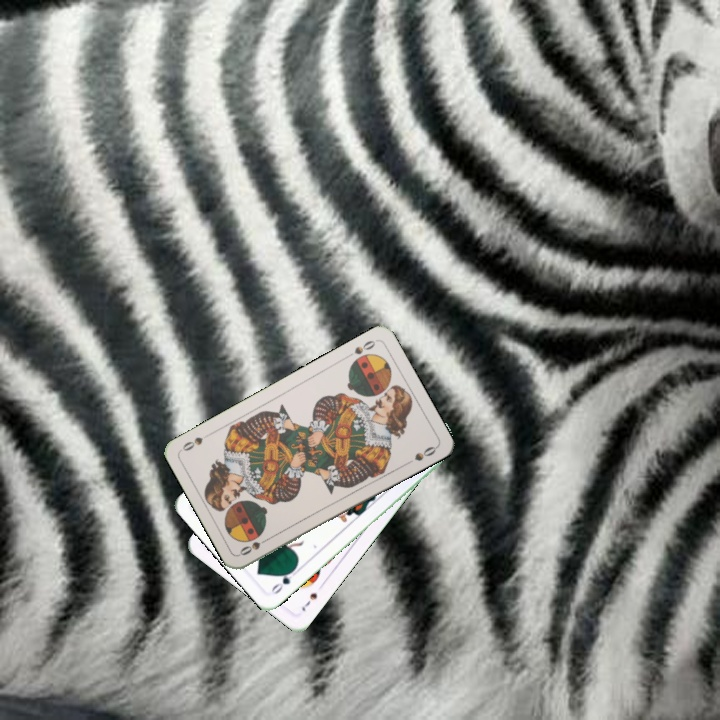GO: (267, 564, 301, 597)
S7: (297, 589, 320, 614)
SO: (235, 533, 273, 558), (342, 336, 379, 361)
